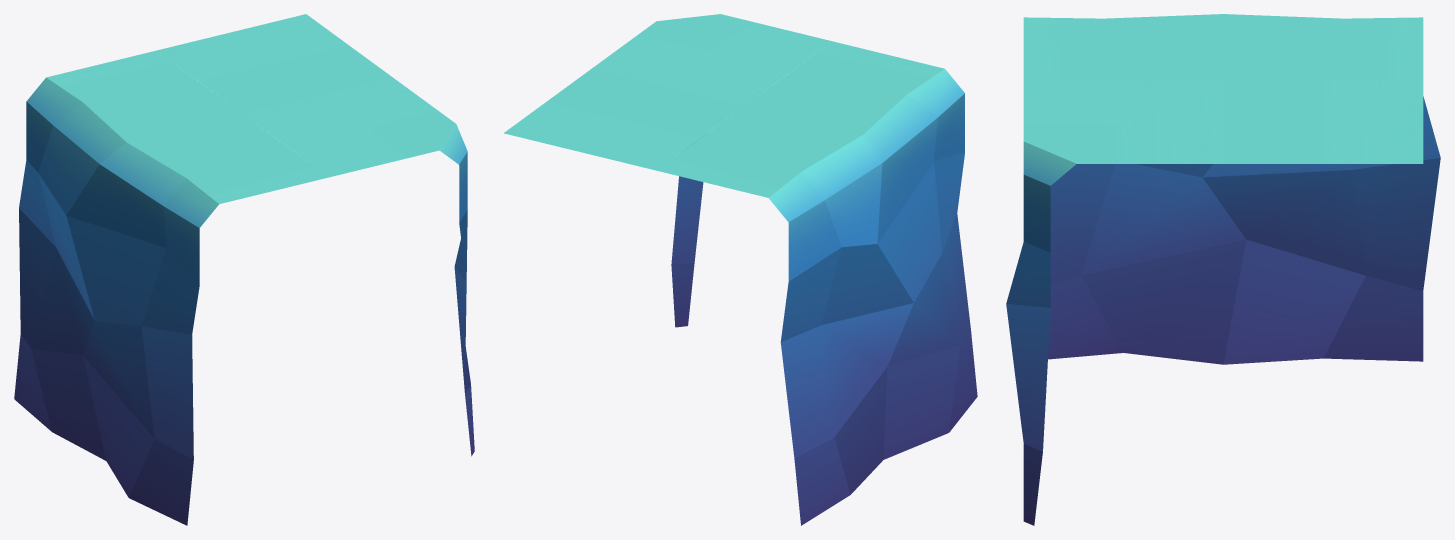
3 renders of one model, left to right at view 1: azimuth 30°, elevation 25°; view 2: azimuth 150°, elevation 25°; view 3: azimuth 270°, elevation 25°, orthographic. The views are drawn at different scales.
Visible parts, largest first — view 1: Side.005, SideSmallRight.004, TopNoWalls.007, TopInnerCorner.010, TopSide.008, TopSide.007, SideSmallLeft.004, InnerCorner.011; view 2: Side.005, SideSmallLeft.004, TopNoWalls.007, TopInnerCorner.010, TopSide.007, TopSide.008, SideSmallRight.004, InnerCorner.011; view 3: Side.005, TopNoWalls.007, TopInnerCorner.010, SideSmallLeft.004, TopSide.007, TopSide.008, InnerCorner.011, SideSmallRight.004.
Part boxes in pixels (box(x1,y1,x2,y2)): Side.005: box(31, 102, 186, 497); SideSmallRight.004: box(129, 178, 218, 525); TopNoWalls.007: box(156, 14, 392, 113); TopInnerCorner.010: box(243, 77, 455, 177); TopSide.008: box(127, 114, 328, 203); TopSide.007: box(46, 50, 242, 142); SideSmallLeft.004: box(14, 77, 82, 431); InnerCorner.011: box(439, 124, 474, 456); Side.005: box(802, 94, 960, 494); SideSmallLeft.004: box(769, 172, 850, 525); TopNoWalls.007: box(504, 68, 743, 170); TopInnerCorner.010: box(592, 14, 832, 105); TopSide.007: box(656, 106, 862, 197); TopSide.008: box(745, 41, 944, 134); SideSmallRight.004: box(908, 69, 977, 432); InnerCorner.011: box(671, 176, 703, 327); Side.005: box(1081, 164, 1365, 364); TopNoWalls.007: box(1223, 79, 1423, 163); TopInnerCorner.010: box(1023, 79, 1223, 163); SideSmallLeft.004: box(1323, 96, 1440, 361); TopSide.007: box(1223, 14, 1423, 79); TopSide.008: box(1023, 14, 1223, 79); InnerCorner.011: box(1006, 141, 1076, 525); SideSmallRight.004: box(1048, 164, 1123, 359).
Bounding box in the file's own units: 307 × 300 × 326.
